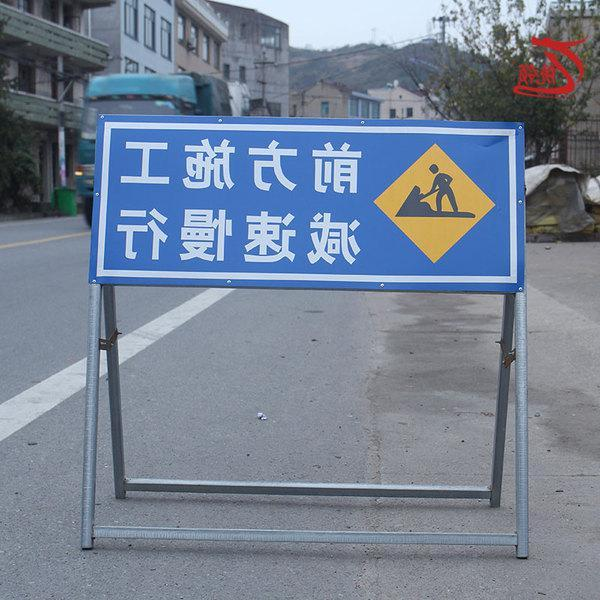sign: (96, 120, 516, 281)
